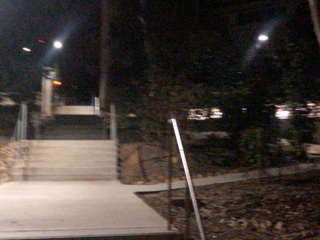Obstacle: (30, 78, 118, 182)
